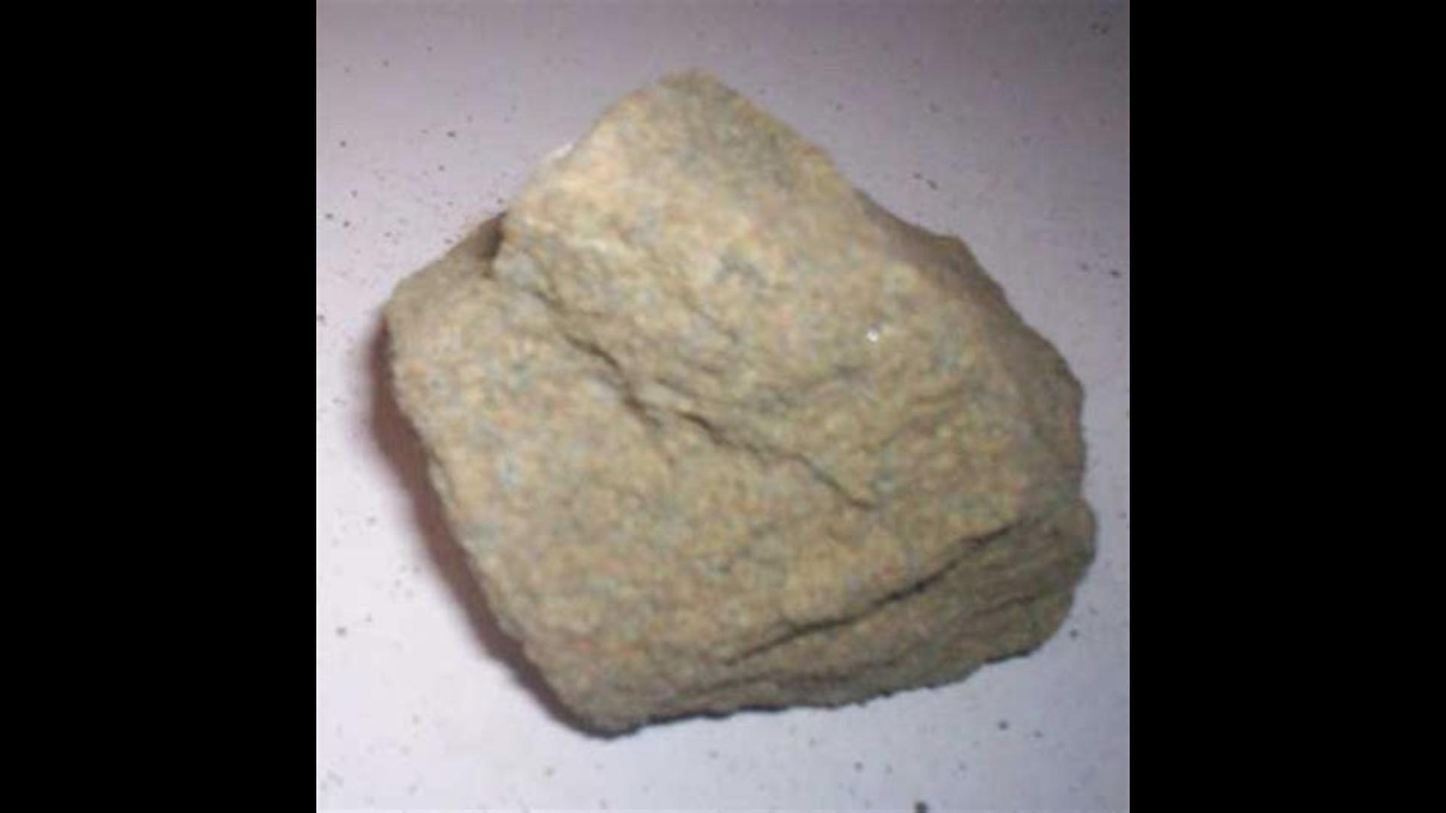rock: (387, 77, 1089, 727)
